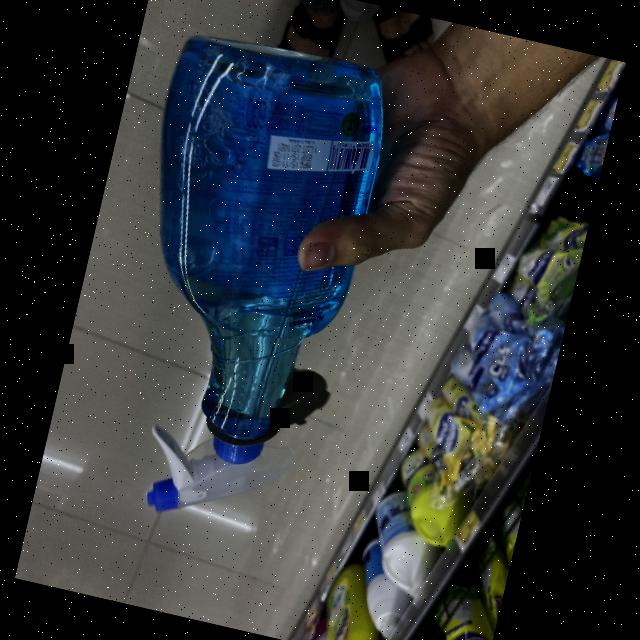chemical_plastic_bottle: (70, 18, 412, 554)
